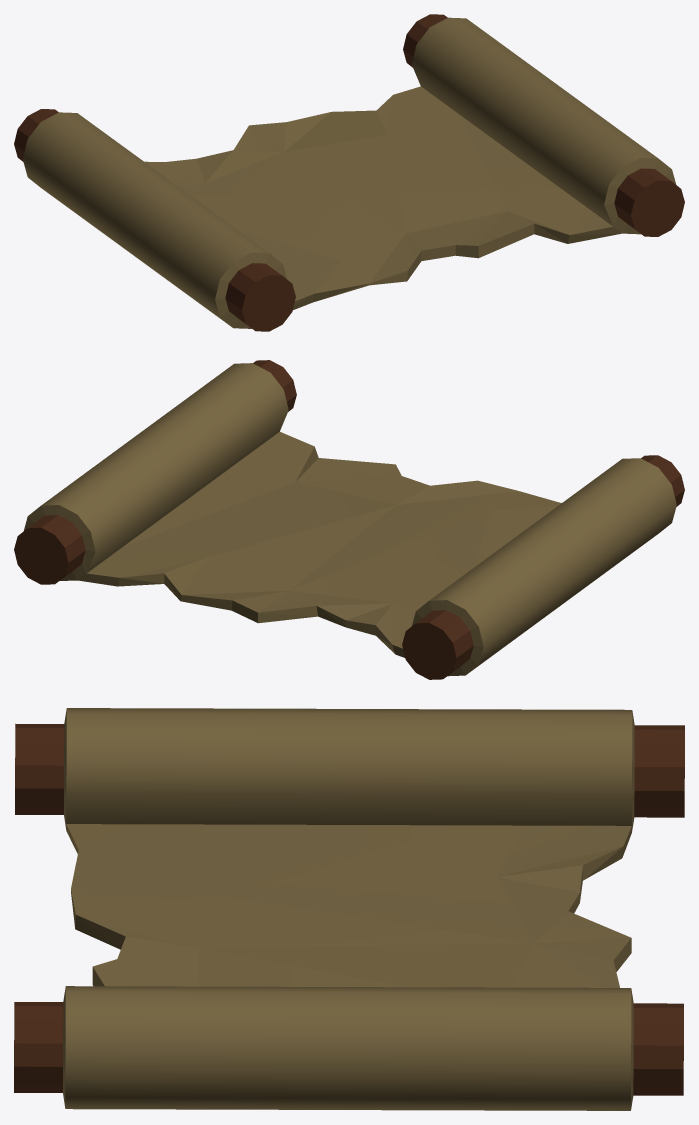
Rendered from Scroll.fbx.
The picture shows the model from 3 angles, top to bottom: view 1: azimuth 30°, elevation 25°; view 2: azimuth 150°, elevation 25°; view 3: azimuth 270°, elevation 25°; orthographic projection. The views are drawn at different scales.
Parts seen in each view (by area): view 1: Scroll; view 2: Scroll; view 3: Scroll.
Boxes of the visible parts, x1=… form: Scroll: x1=14, y1=14, x2=684, y2=331; Scroll: x1=14, y1=360, x2=684, y2=679; Scroll: x1=14, y1=708, x2=684, y2=1110.
Size of the model in its own units: 77.17 by 12.35 by 66.16.
